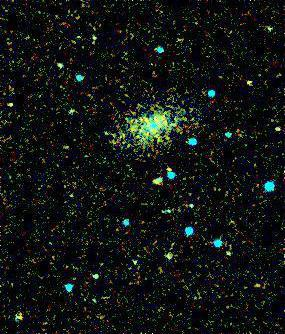star: (151, 155, 181, 185)
